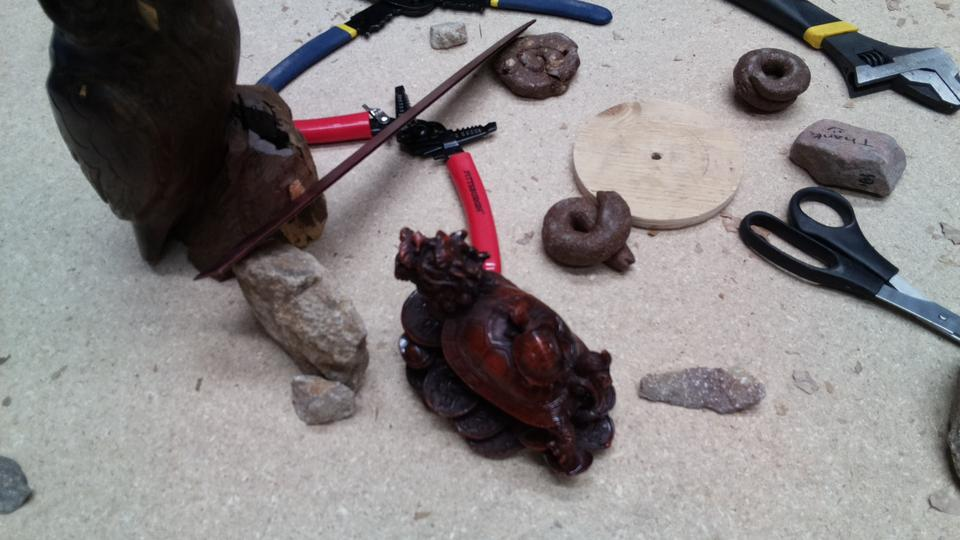poop: (536, 189, 643, 277), (490, 28, 581, 101), (728, 45, 816, 119)
